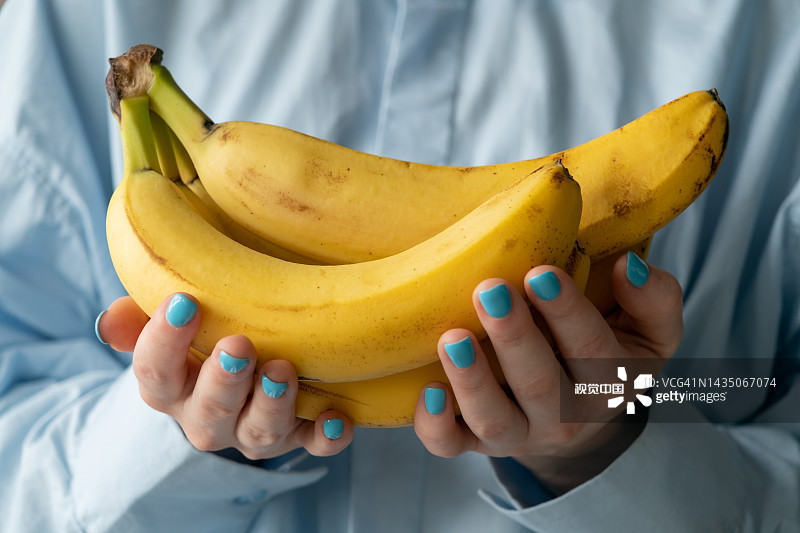no-phone: (398, 234, 693, 490), (72, 251, 371, 477)
